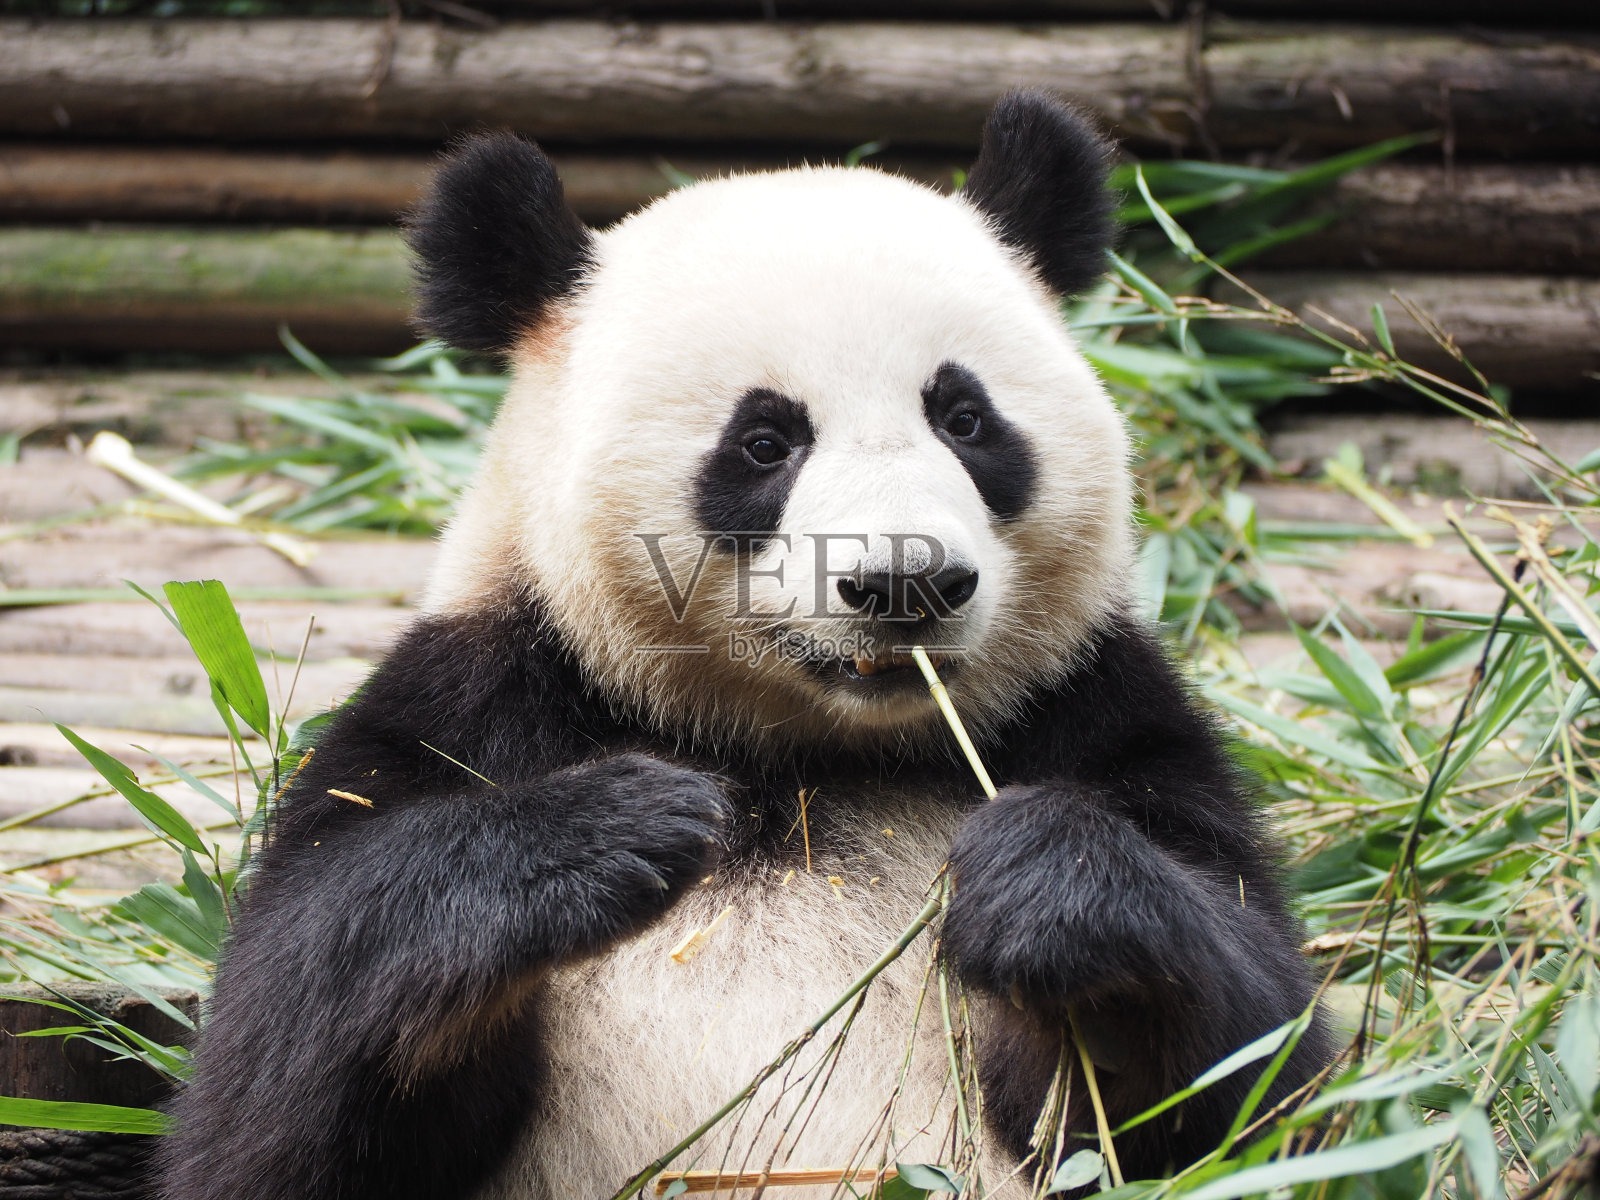panda: (273, 79, 1317, 1158)
